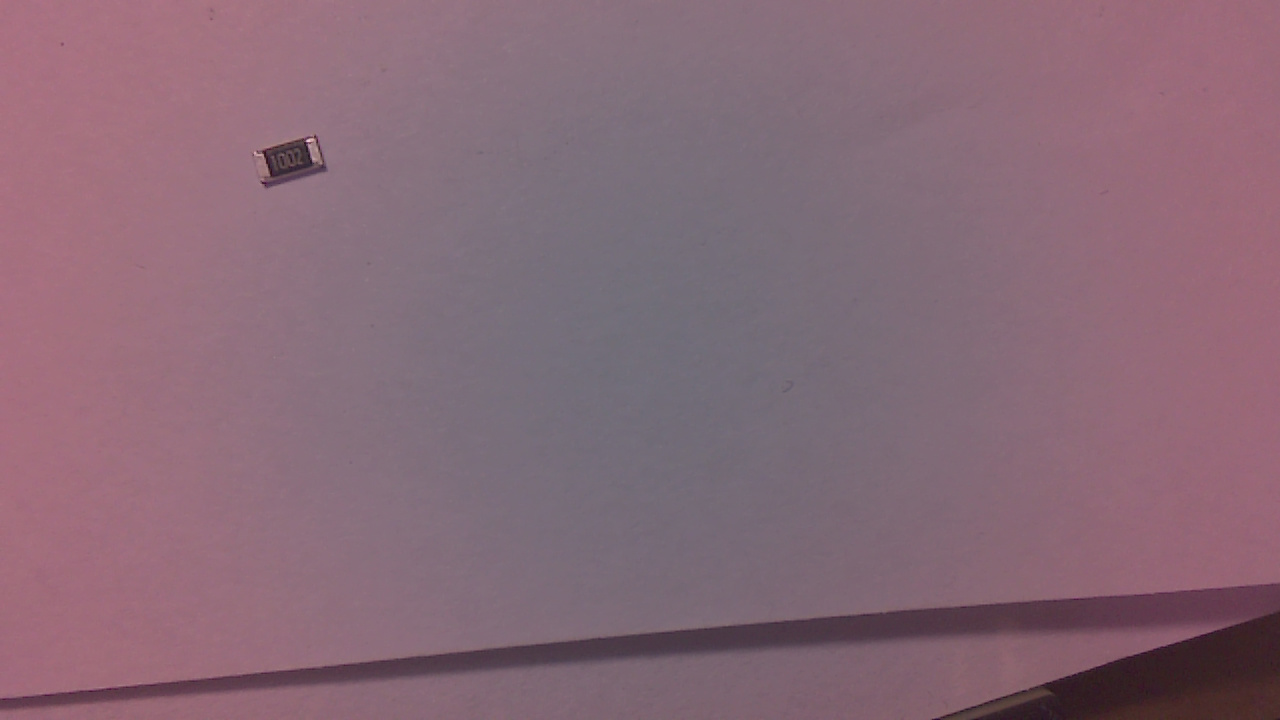Resistor: (258, 141, 332, 191)
